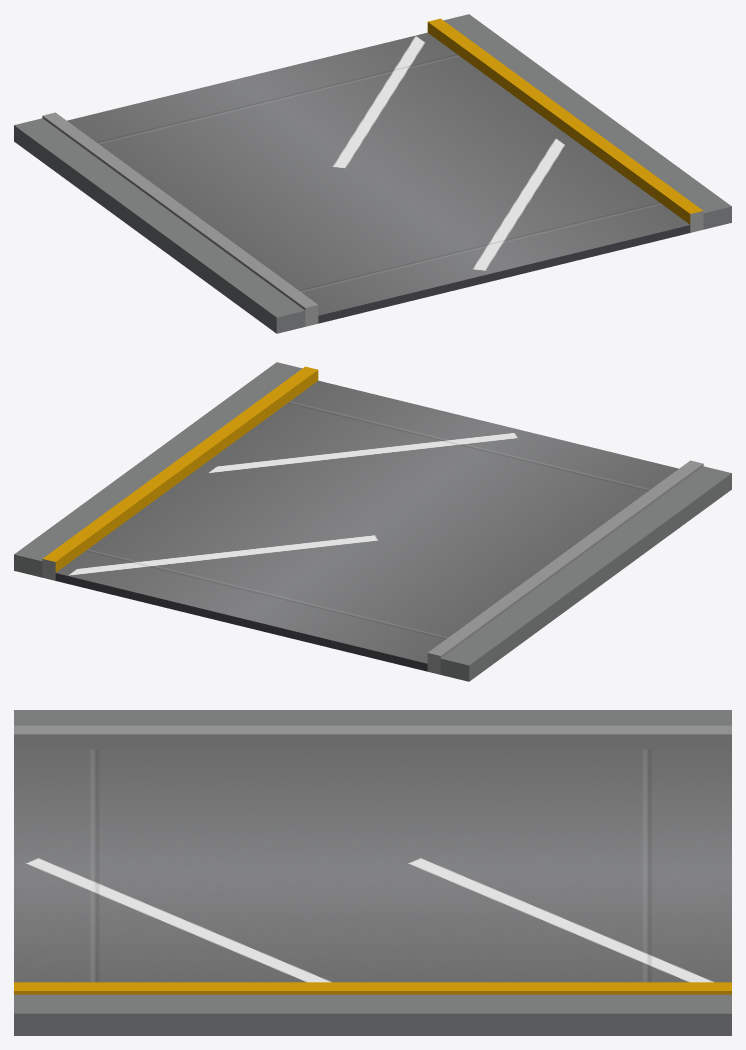
The model's file is Road1_Parking2.fbx.
The picture shows the model from 3 angles, top to bottom: view 1: azimuth 30°, elevation 25°; view 2: azimuth 150°, elevation 25°; view 3: azimuth 270°, elevation 25°; orthographic projection. The views are drawn at different scales.
Visible parts, largest first — view 1: Road1_Parking2; view 2: Road1_Parking2; view 3: Road1_Parking2.
Boxes of the visible parts, bbox=[...] form: Road1_Parking2: bbox=[14, 14, 731, 333]; Road1_Parking2: bbox=[14, 362, 731, 681]; Road1_Parking2: bbox=[14, 710, 731, 1035].
Bounding box in the file's own units: 12 × 0.4753 × 12.
